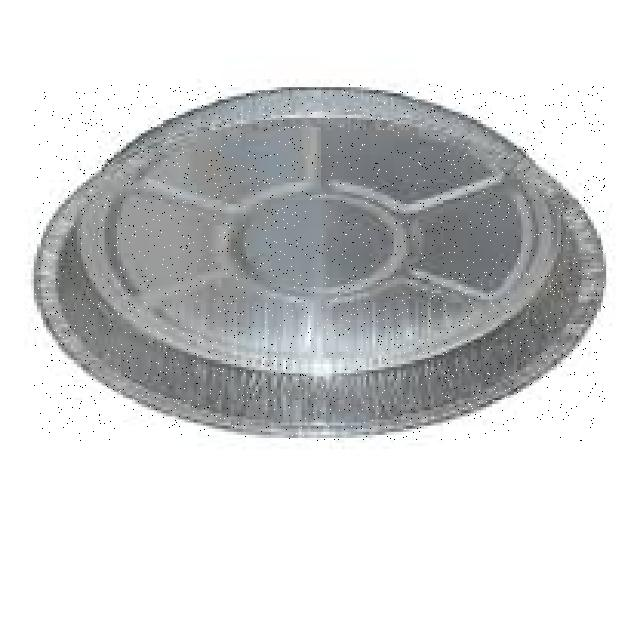metal: (34, 84, 606, 440)
